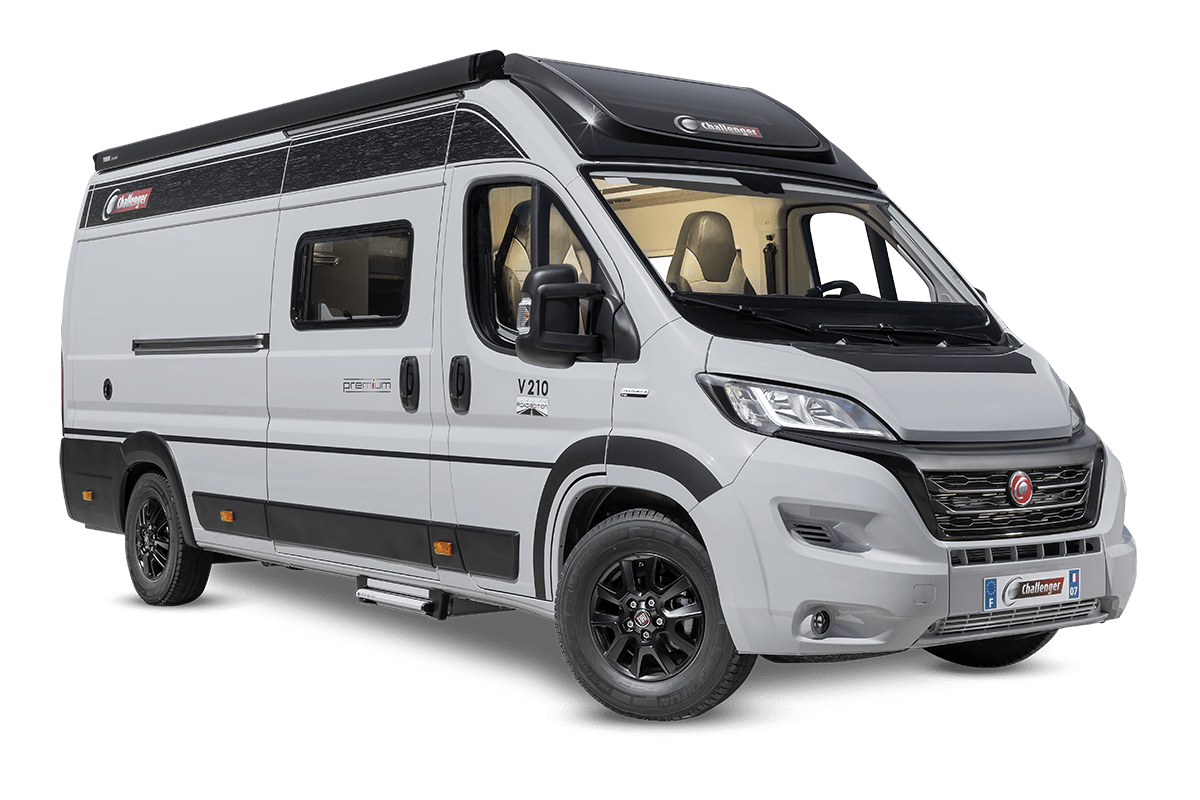van: (58, 49, 1138, 723)
